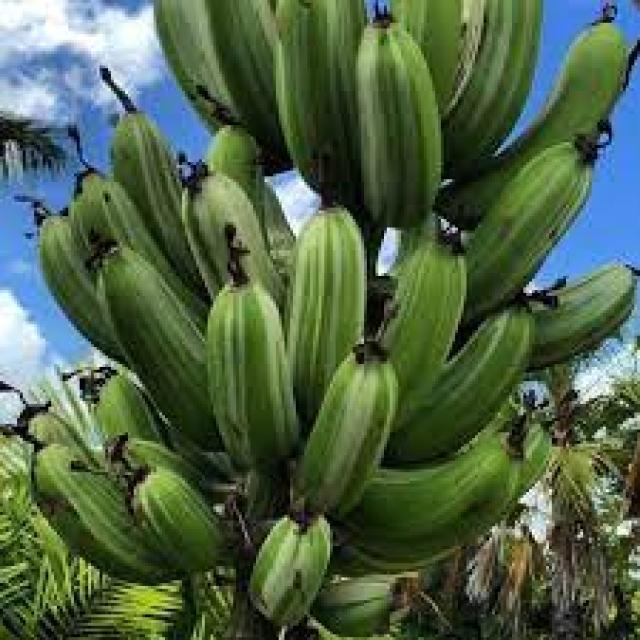banana: (55, 92, 563, 601), (145, 0, 599, 229)
